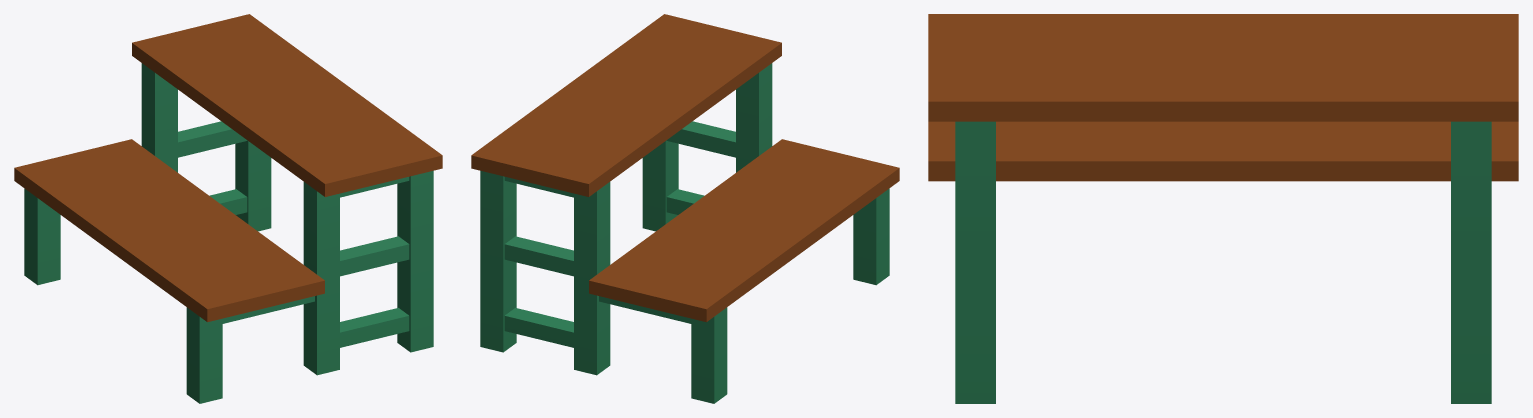
File: Bench_1_C_6.glb
3 views of the same model, side by side, from view 1: azimuth 30°, elevation 25°; view 2: azimuth 150°, elevation 25°; view 3: azimuth 270°, elevation 25° (orthographic). The views are drawn at different scales.
Visible parts, largest first — view 1: Bench_1_C_6; view 2: Bench_1_C_6; view 3: Bench_1_C_6.
Part boxes in pixels (x1,y1,x2,y2): Bench_1_C_6: (14, 14, 442, 403); Bench_1_C_6: (471, 14, 899, 403); Bench_1_C_6: (928, 14, 1518, 403).
Size of the model in its own units: 0.8137 by 0.654 by 1.16.
Materials: 2 (2 with a texture image).
